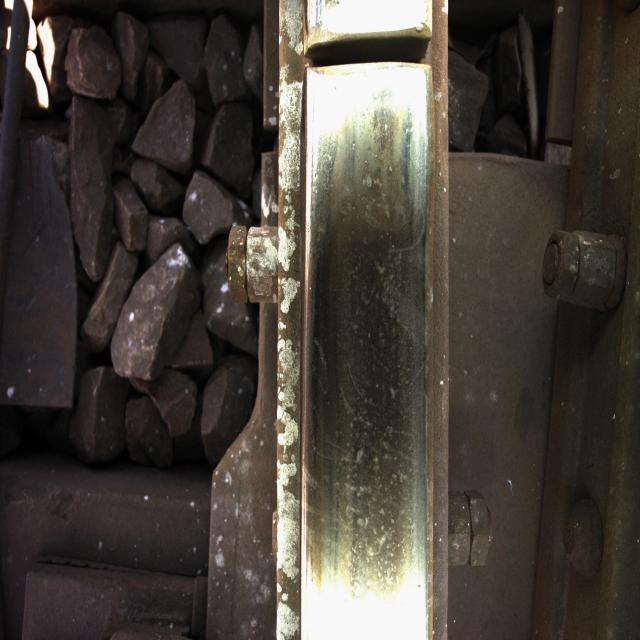spalling: (281, 0, 464, 95)
